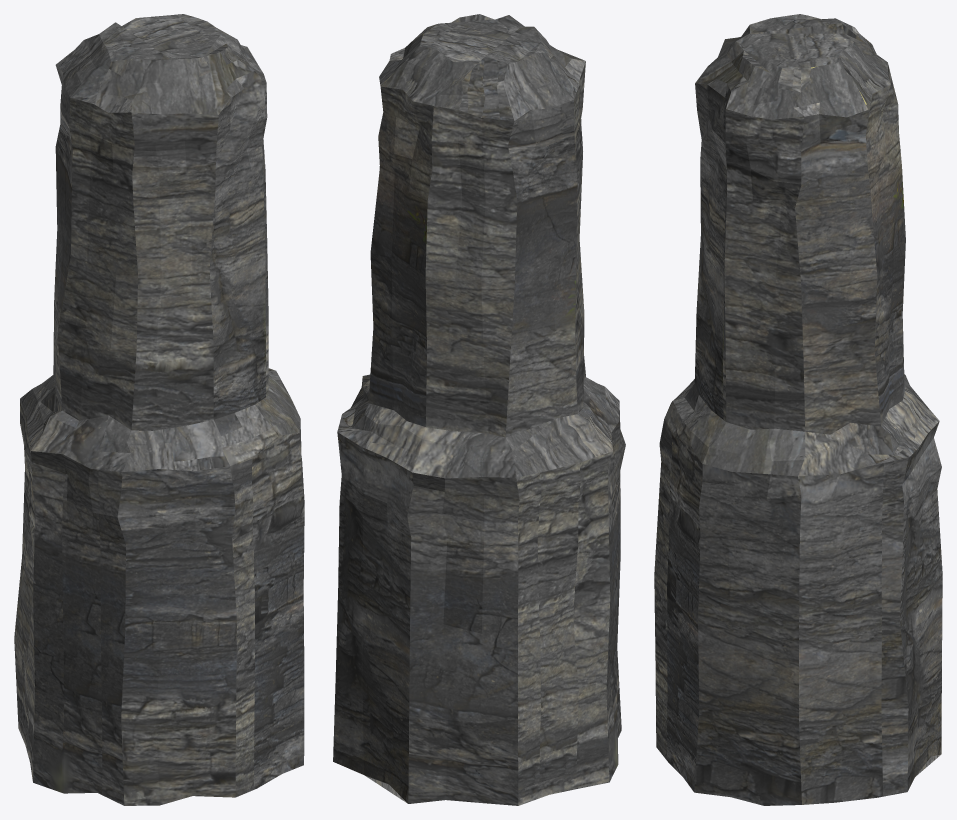
File: big_outcrop_rock.fbx
The picture shows the model from 3 angles, left to right: view 1: azimuth 30°, elevation 25°; view 2: azimuth 150°, elevation 25°; view 3: azimuth 270°, elevation 25°; orthographic projection.
Parts seen in each view (by area): view 1: Octa_Canyon_Rock; view 2: Octa_Canyon_Rock; view 3: Octa_Canyon_Rock.
Part boxes in pixels (left/top/right/bottom): Octa_Canyon_Rock: left=14, top=14, right=304, bottom=805; Octa_Canyon_Rock: left=333, top=14, right=625, bottom=805; Octa_Canyon_Rock: left=654, top=14, right=942, bottom=805.
Size of the model in its own units: 286 by 759 by 276.
Materials: 1 (1 with a texture image).
